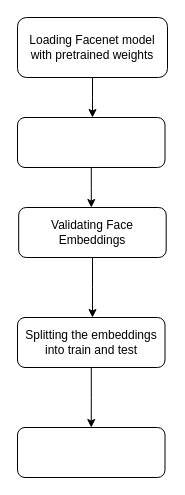
The diagram is 185 pixels wide and 495 high, and some of its shapes have lost their labels. Each missing label, with the centre of its shape:
"Face Embeddings Generation" belongs at (x=90, y=142).
"Training a SVM model on Embeddings" belongs at (x=90, y=452).
